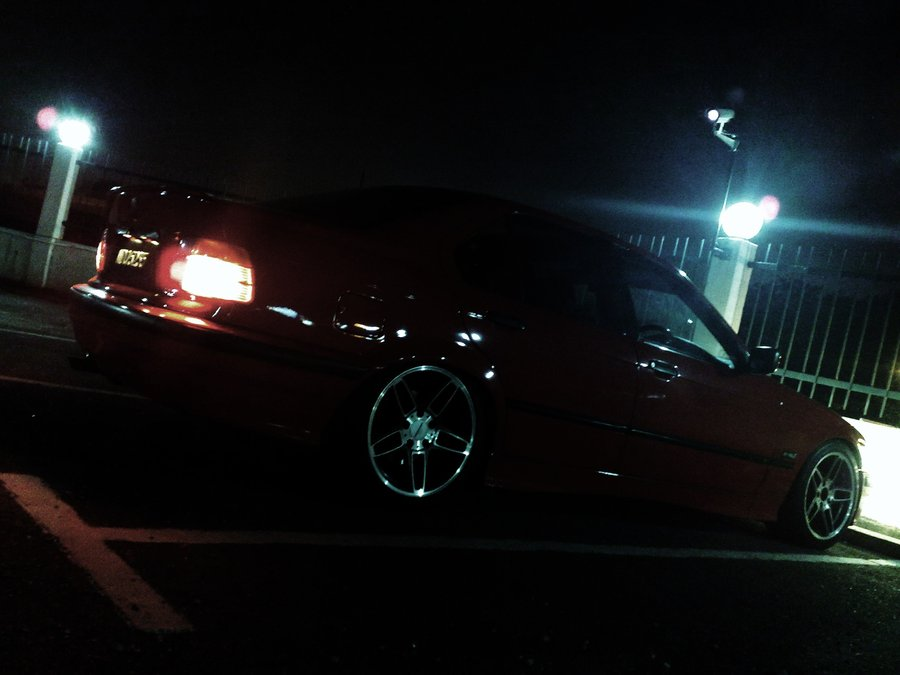car: (60, 159, 876, 553)
